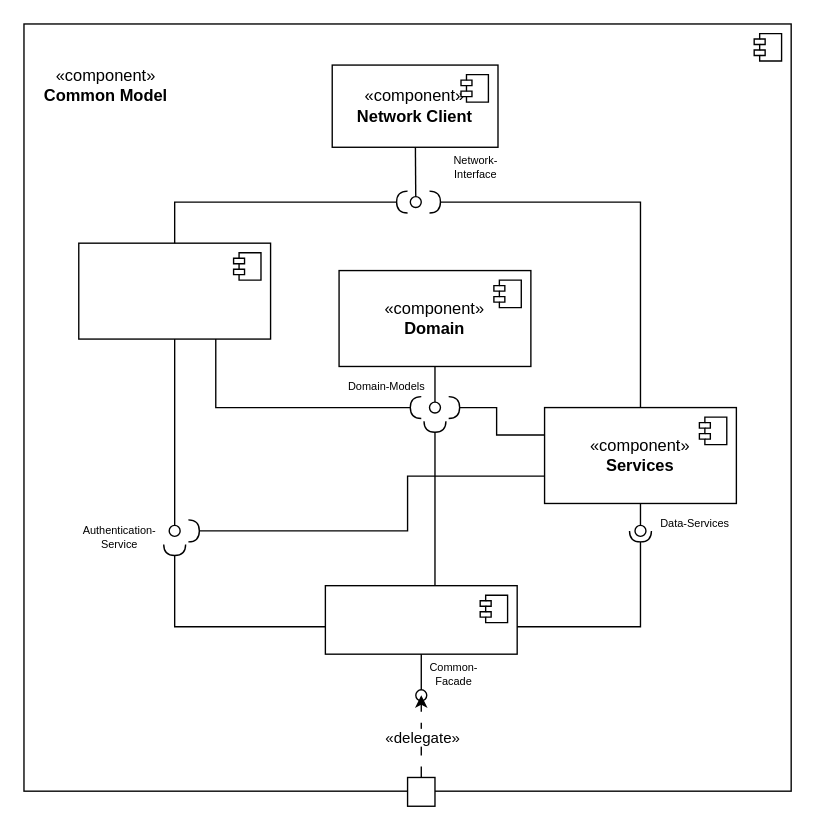
This 815x830 diagram has some shape labels left out. Here are the shapes that lost their labels. From the top down, the centre of each, then its label:
At (174,290): "«component» Authentication".
At (420,619): "«component» Facade".
